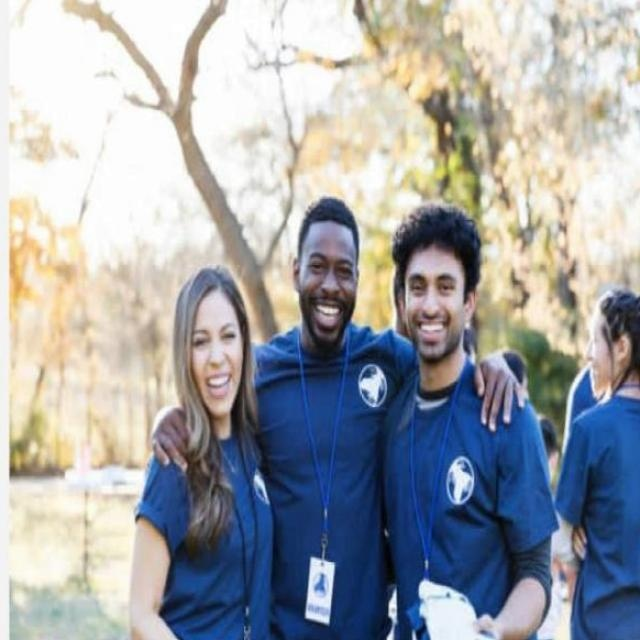ID_card: (292, 356, 349, 613), (407, 411, 463, 635), (215, 469, 265, 640)
